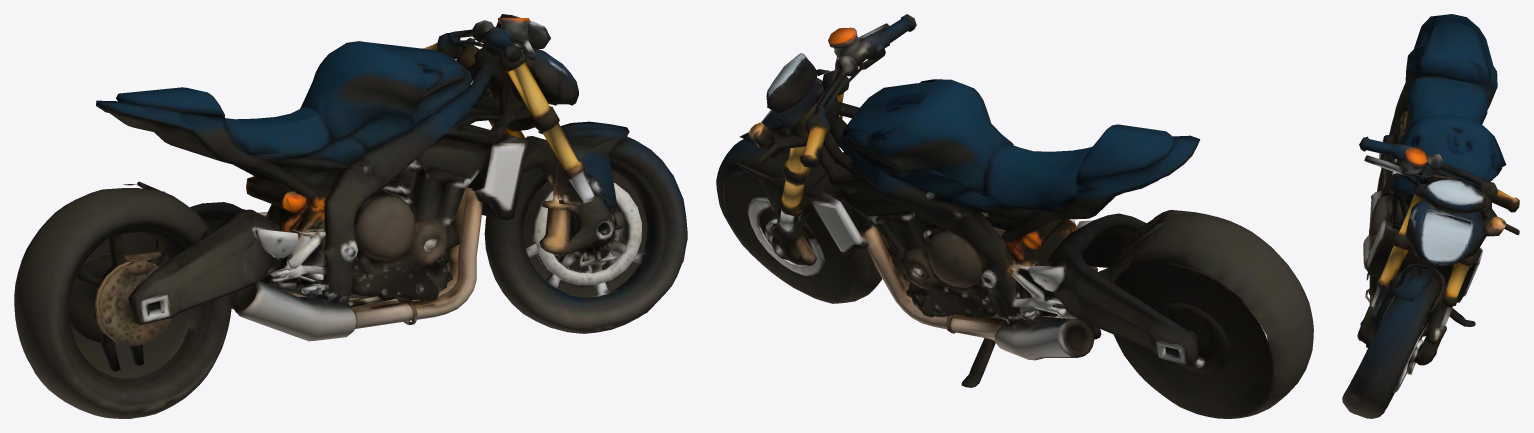
File: Vehicles__crashed_motorbike_93a95d9d_v3.cluster.glb
3 views of the same model, side by side, from view 1: azimuth 30°, elevation 25°; view 2: azimuth 150°, elevation 25°; view 3: azimuth 270°, elevation 25° (orthographic). The views are drawn at different scales.
Visible parts, largest first — view 1: material; view 2: material; view 3: material.
Part boxes in pixels (x1,y1,x2,y2): material: (14,14,687,418); material: (716,14,1313,418); material: (1342,14,1519,418).
Size of the model in its own units: 1.9 by 0.8924 by 0.5955.
1 material, 1 textured.
